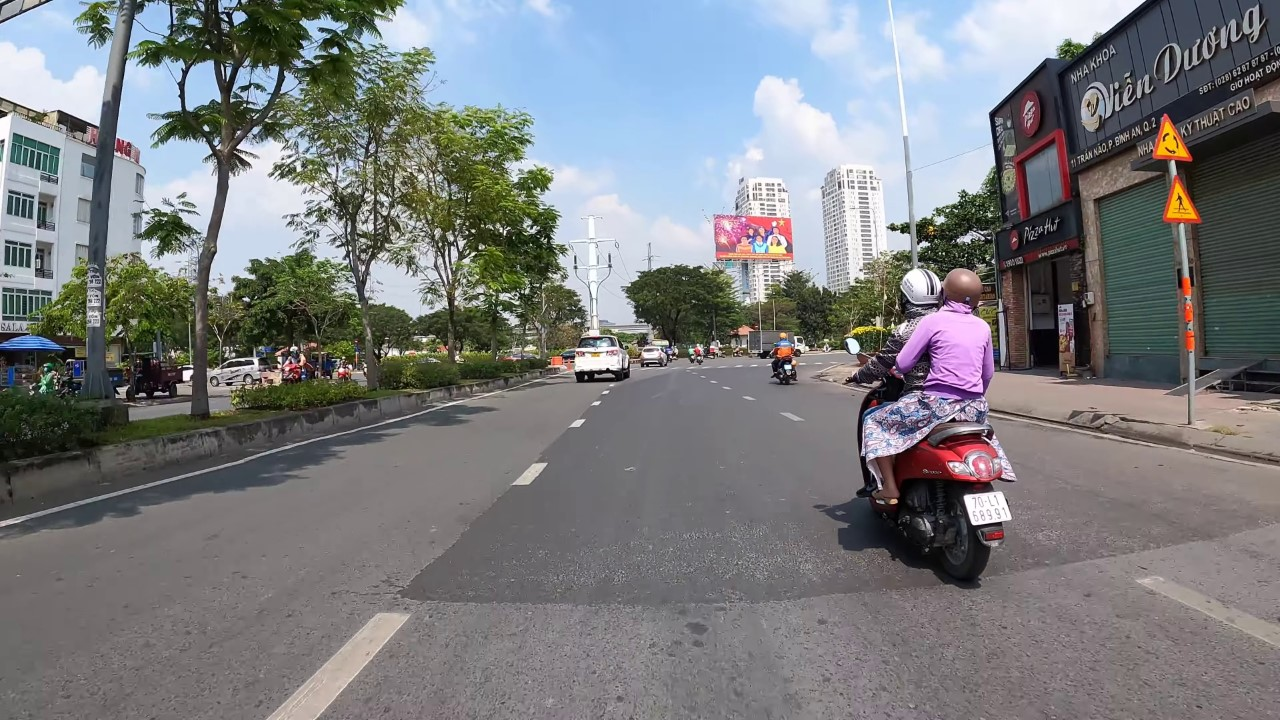can_than_nguoi_qua_duong: (1161, 172, 1206, 225)
